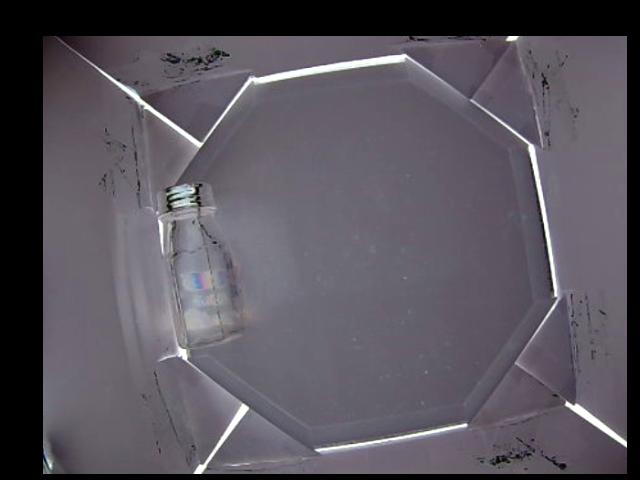Bottle: (154, 181, 248, 350)
